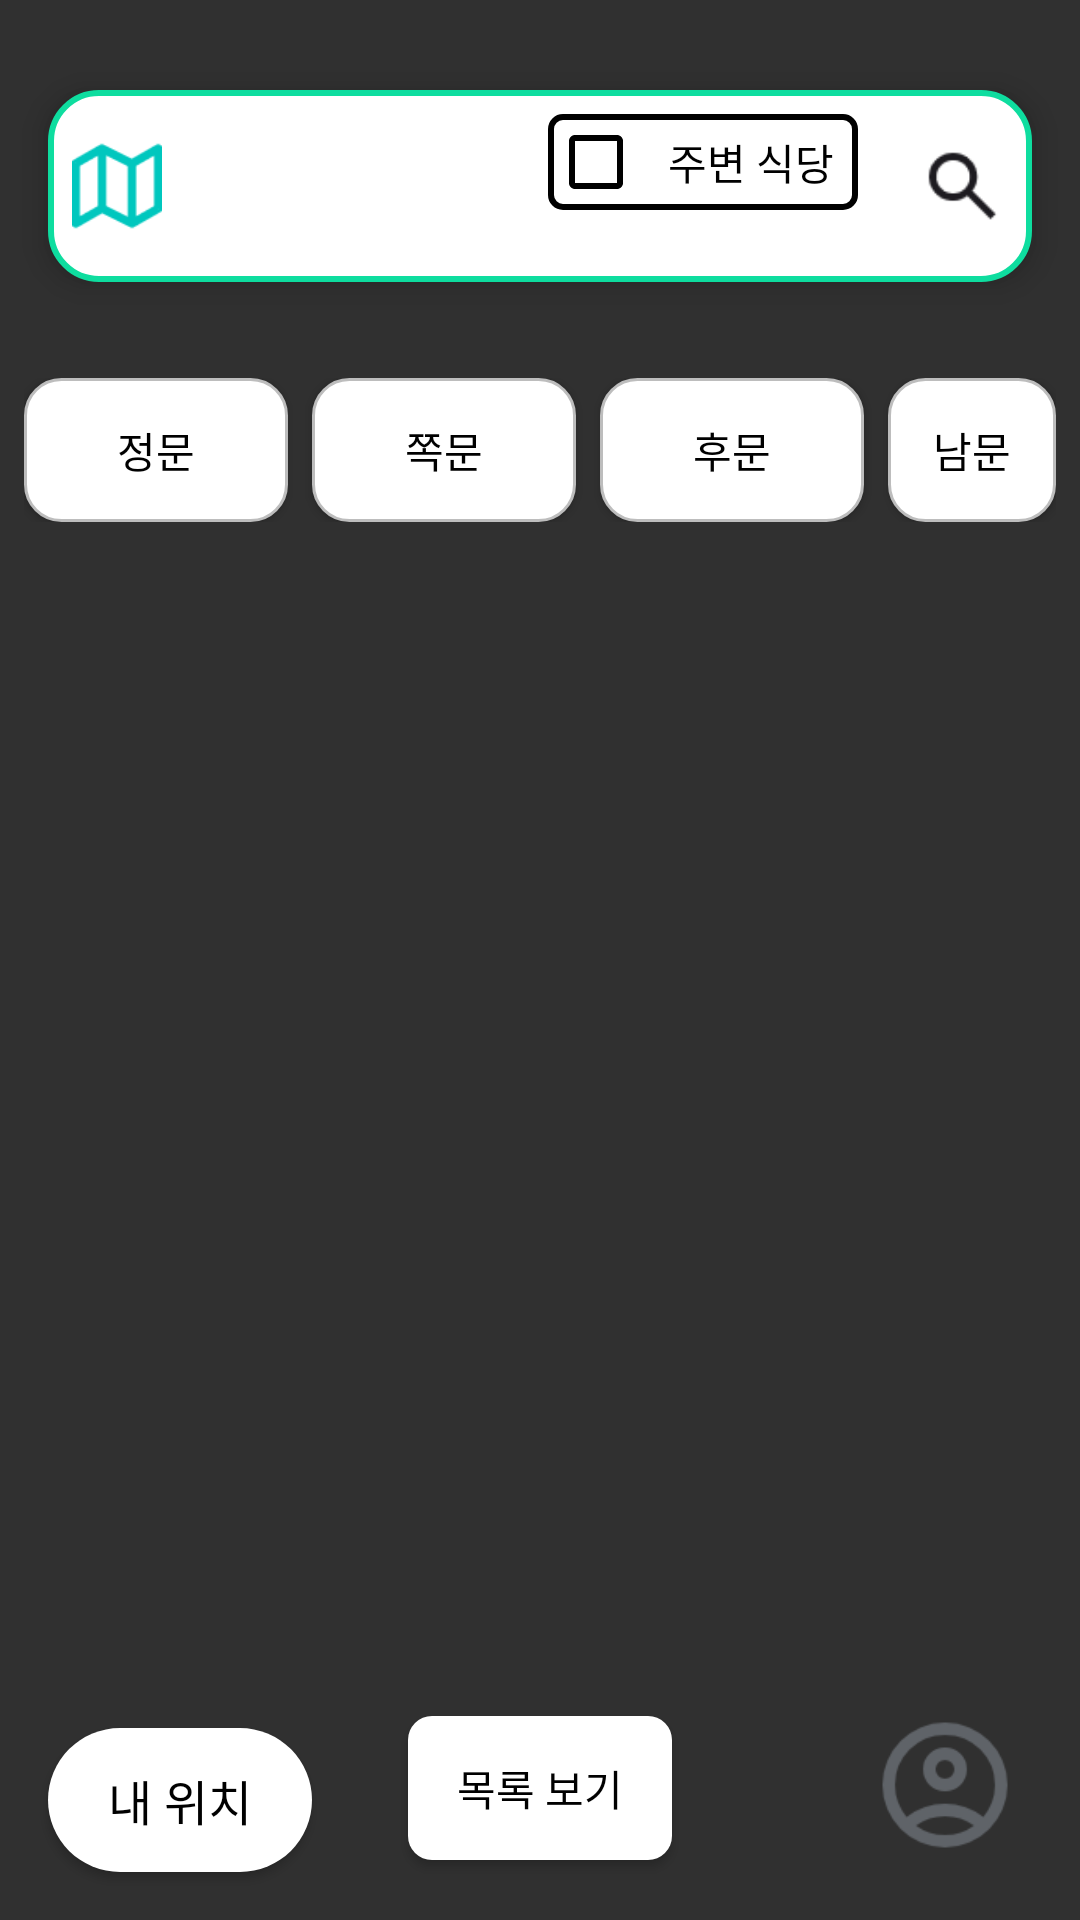

Icons on this 1080*1920 Android screen, each with its box as (x1, y1, x2, y2):
account circle: (882, 1722, 1008, 1848)
map: (72, 143, 162, 229)
search: (928, 152, 996, 220)
